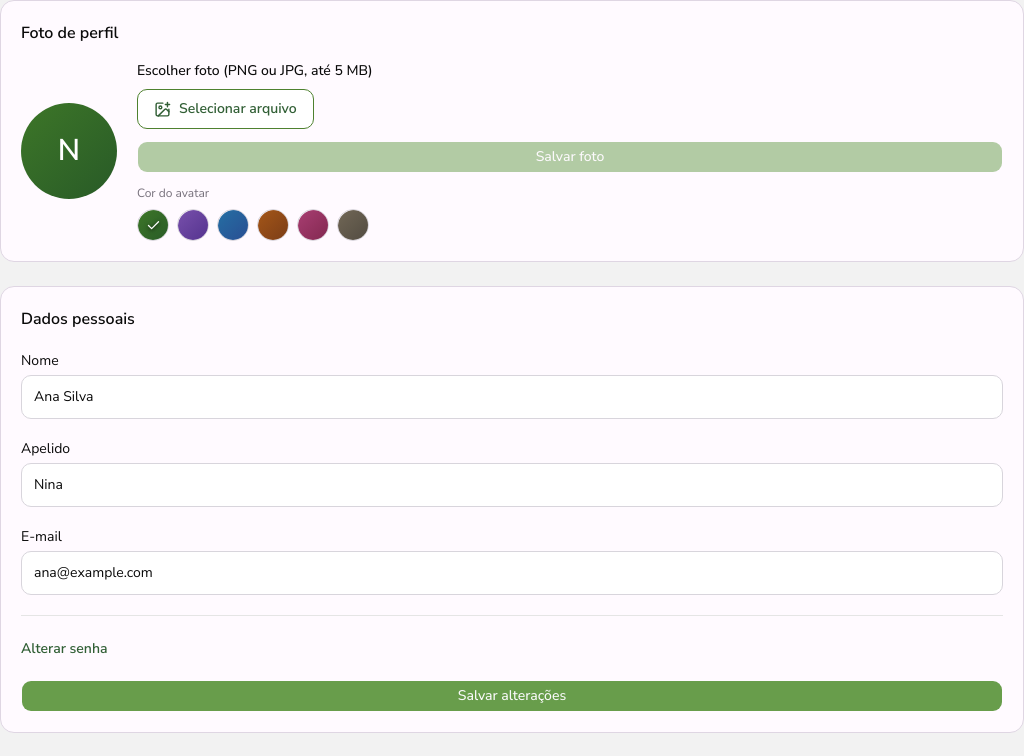
it: ProfilePage › requires the current password and saves email and password changes
This screenshot has width=1024, height=756.
Step 1. Replace the text in the field labelled "E-mail" with "new@example.com" → (512, 573), box [21, 551, 1003, 595]
(page scrolled)
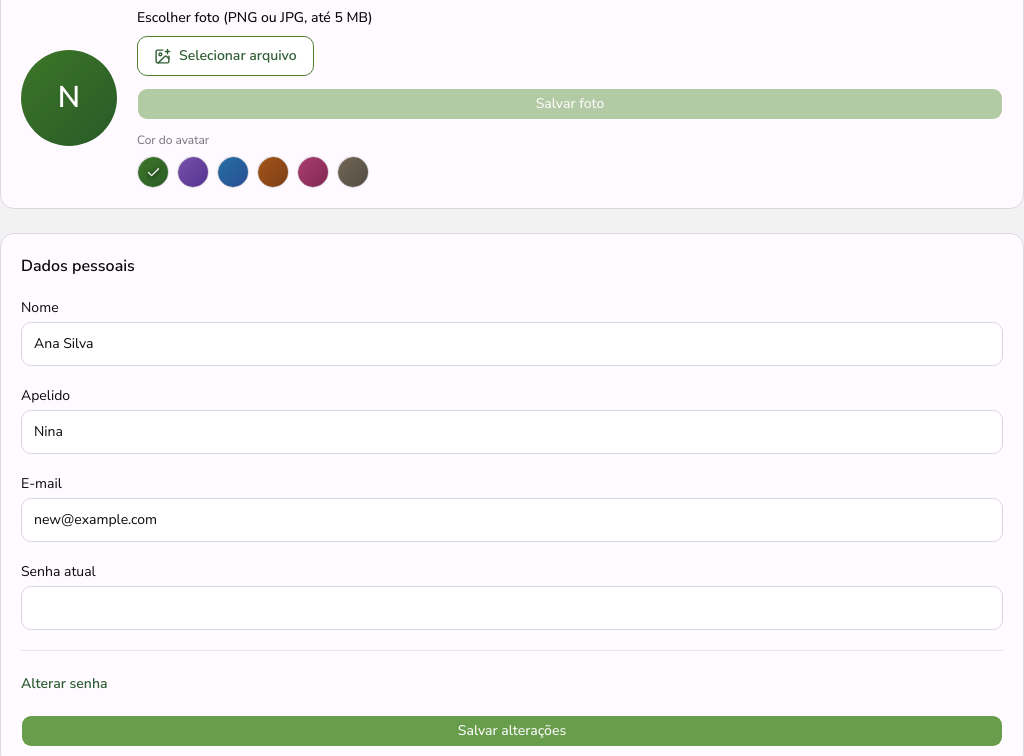
Step 2. Click the button "Salvar alterações" → (512, 731), box [21, 715, 1003, 747]
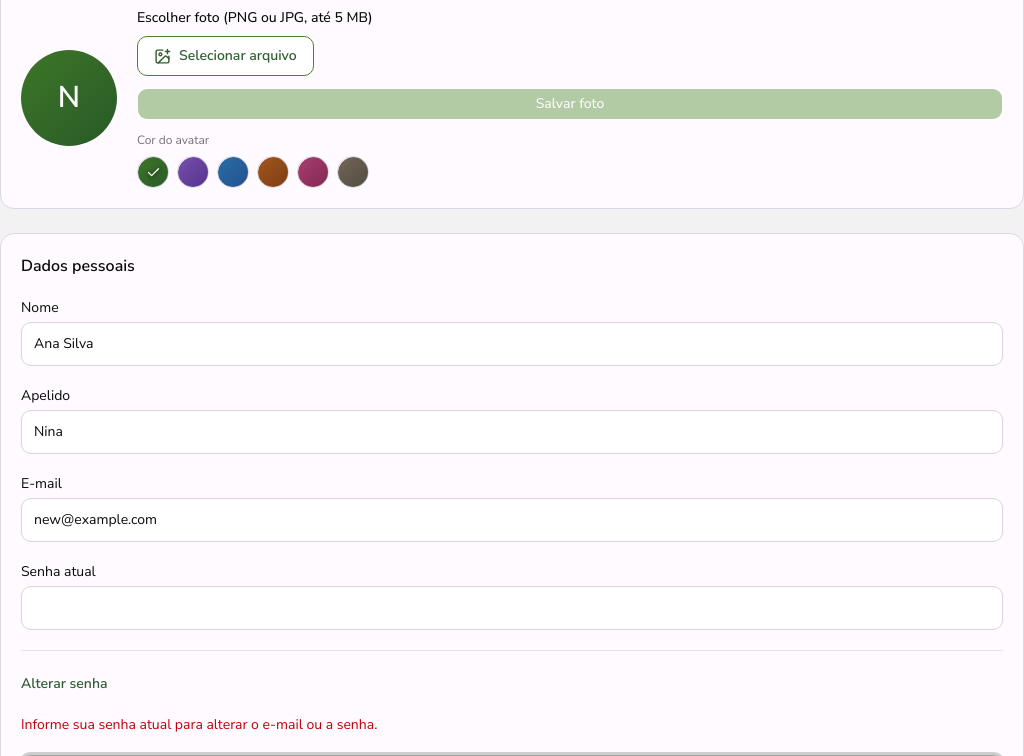
Expected: the message shows "Informe sua senha atual", [21, 715, 377, 734]
Step 3. Type "old-password" into the password field labelled "Senha atual" → (512, 608), box [21, 586, 1003, 630]
Step 4. Click the button "Alterar senha" → (64, 684), box [21, 674, 108, 694]
(page scrolled)
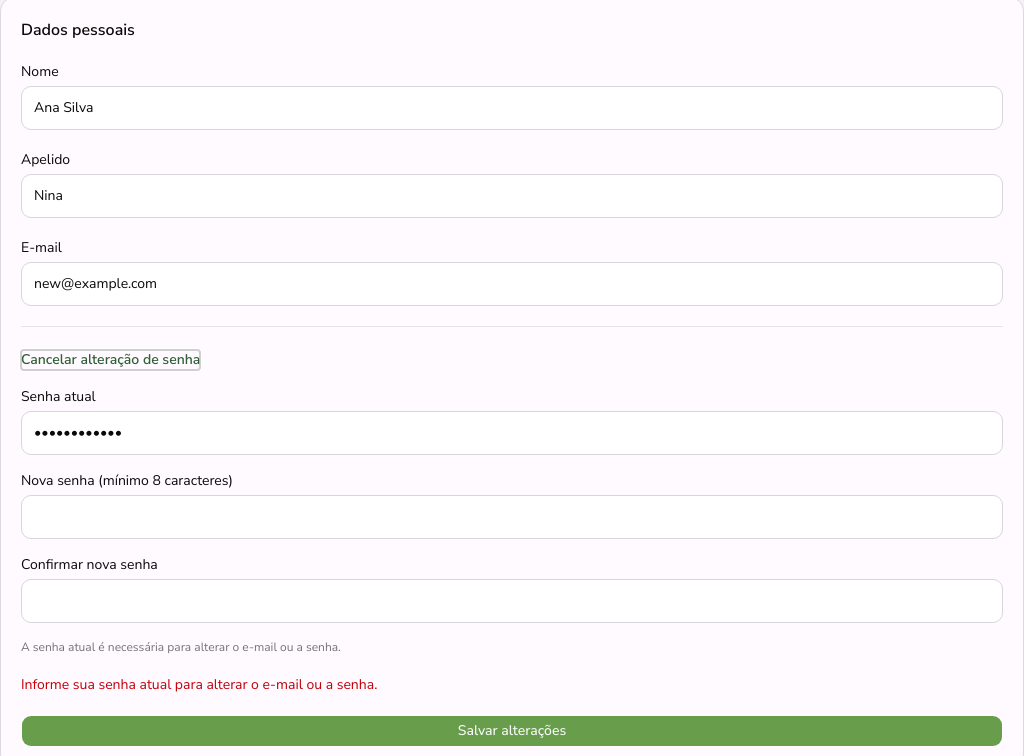
Step 5. Type "new-password" into the password field labelled "Nova senha (mínimo 8 caracteres)" → (512, 517), box [21, 495, 1003, 539]
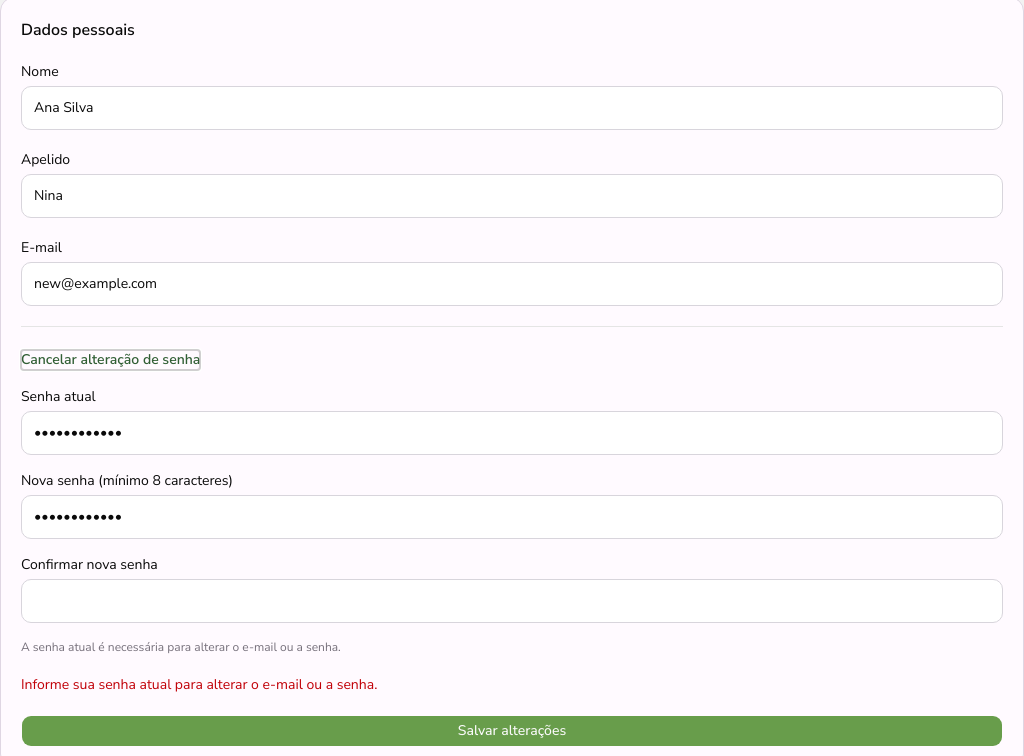
Step 6. Type "new-password" into the password field labelled "Confirmar nova senha" → (512, 601), box [21, 579, 1003, 623]
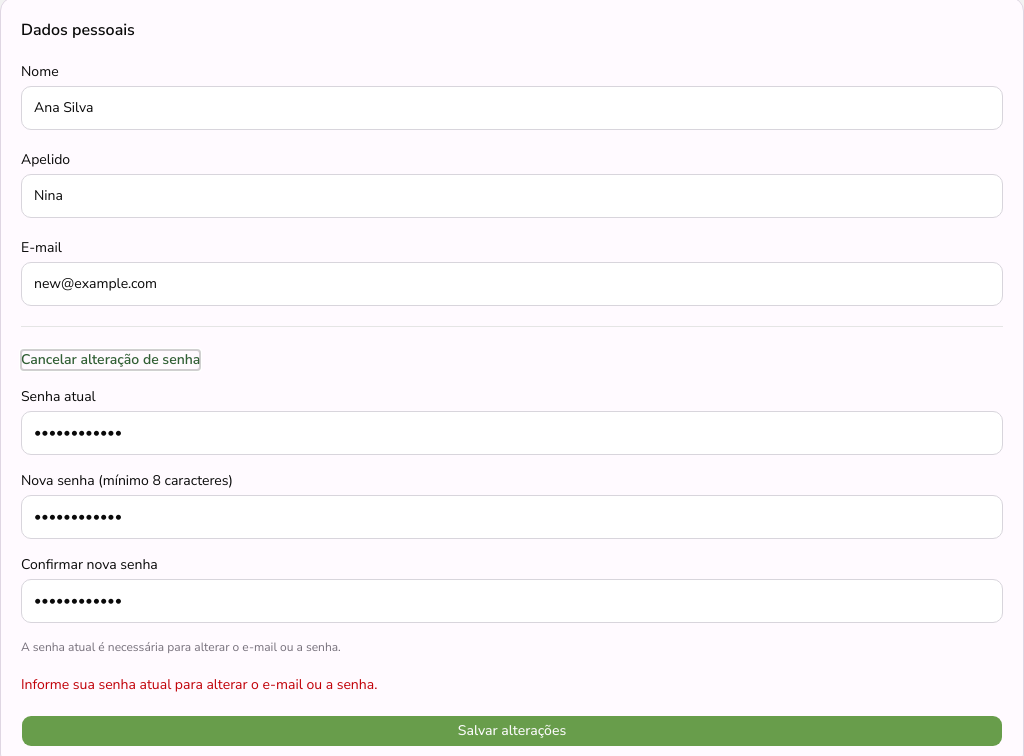
Step 7. Click the button "Salvar alterações" → (512, 731), box [21, 715, 1003, 747]
(page scrolled)
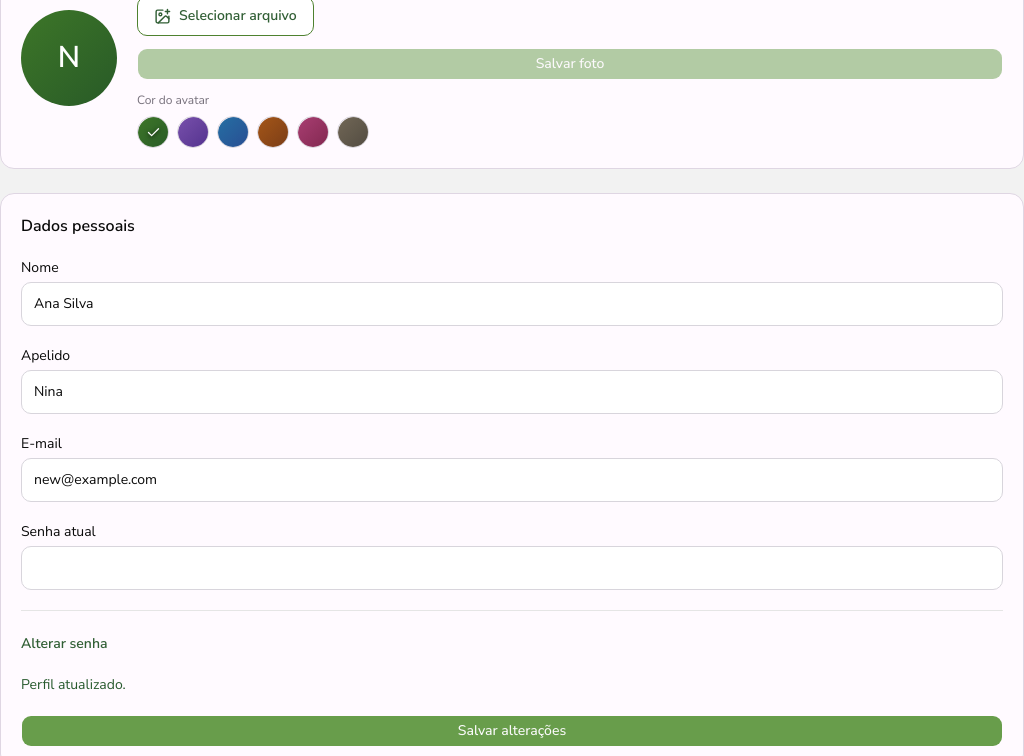
Expected: the message reads "Perfil atualizado.", [21, 675, 126, 694]
